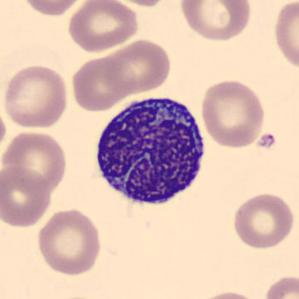Monocyte: (89, 88, 211, 214)
Platelets: (255, 132, 278, 152)
RBC: (198, 78, 268, 150), (35, 206, 104, 277), (0, 63, 70, 130), (1, 128, 70, 194), (101, 37, 173, 95), (230, 190, 296, 251), (66, 0, 140, 54), (69, 53, 135, 113), (0, 165, 53, 229), (178, 0, 253, 43), (270, 0, 299, 72), (17, 0, 89, 17), (262, 273, 298, 299), (194, 289, 261, 299), (106, 0, 174, 7), (0, 103, 8, 158)
